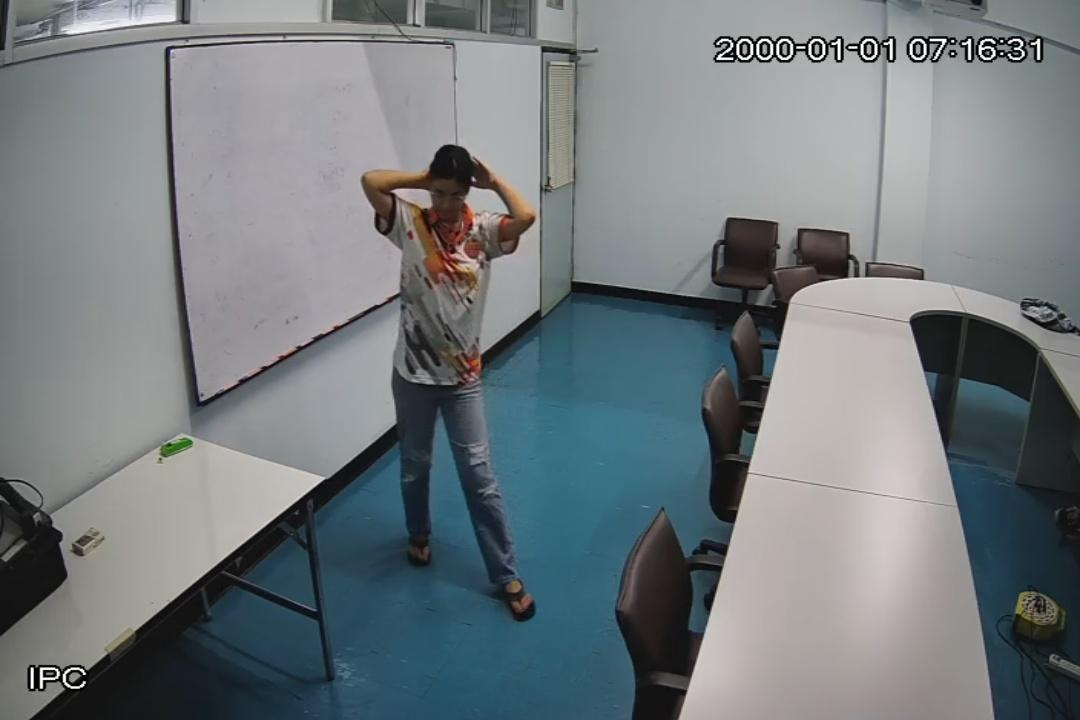normal: (361, 145, 536, 619)
